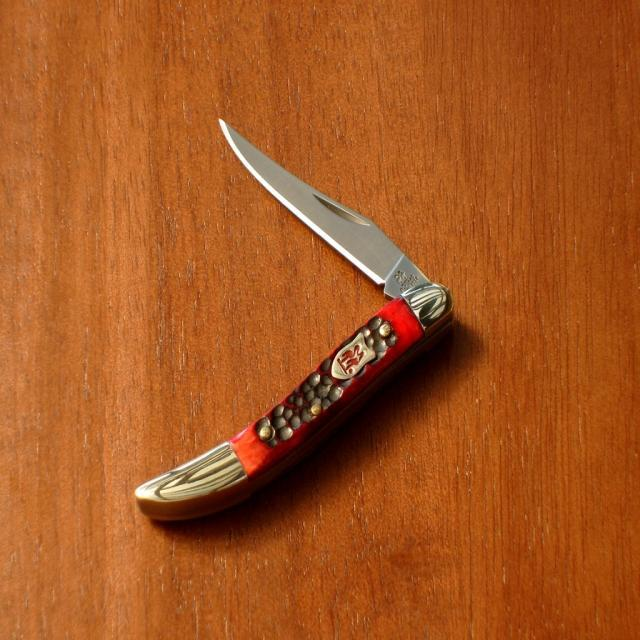Knife: (135, 120, 454, 521)
